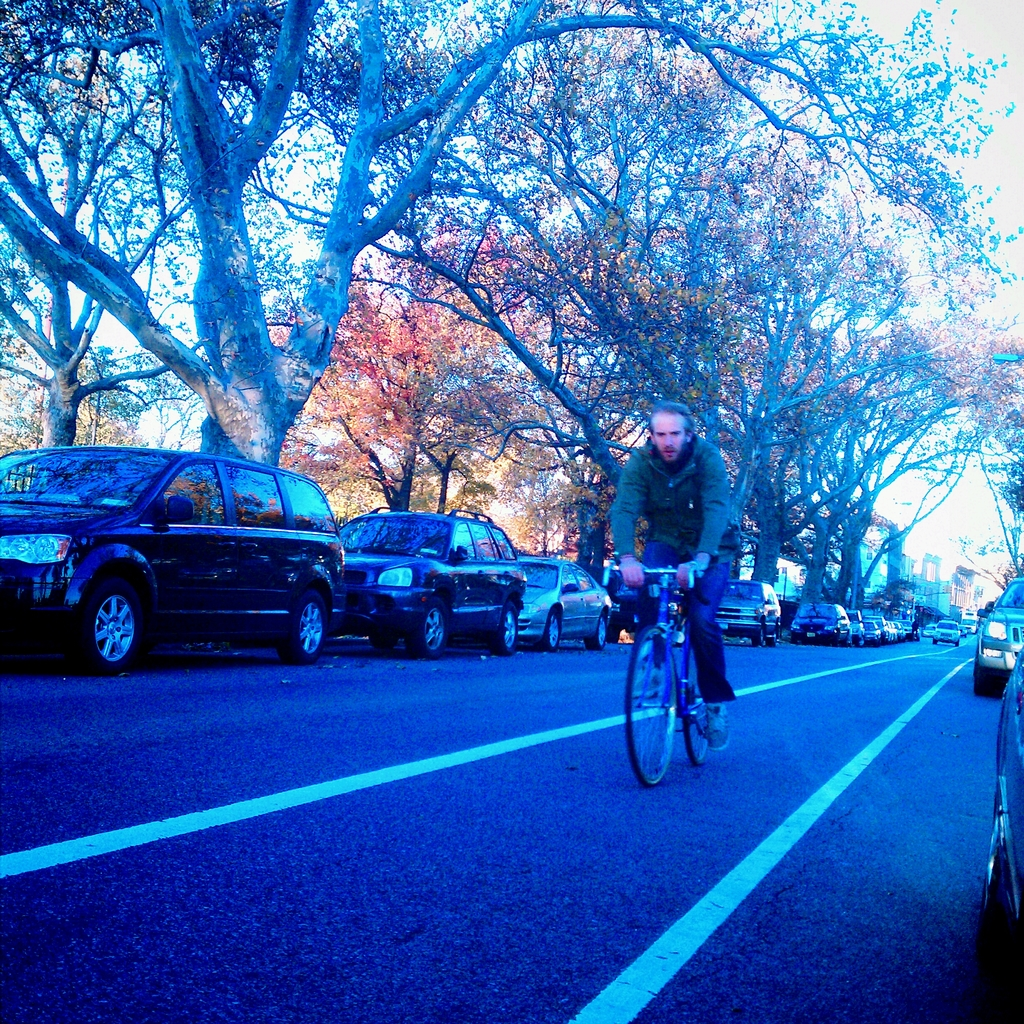Car: (0, 444, 352, 686), (346, 499, 538, 685), (991, 671, 1023, 1023), (519, 555, 608, 666), (800, 599, 930, 657), (968, 571, 1023, 704), (721, 571, 788, 652), (928, 618, 958, 650)
